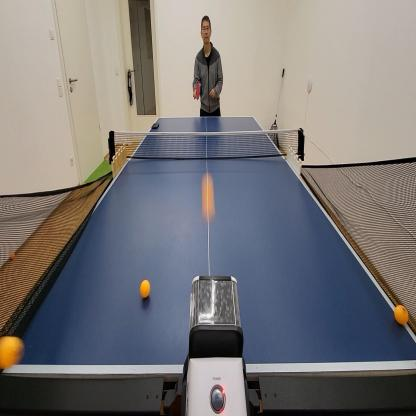Ball: (0, 335, 24, 368), (201, 173, 215, 219), (395, 304, 409, 326), (141, 280, 150, 298), (10, 251, 15, 259)
